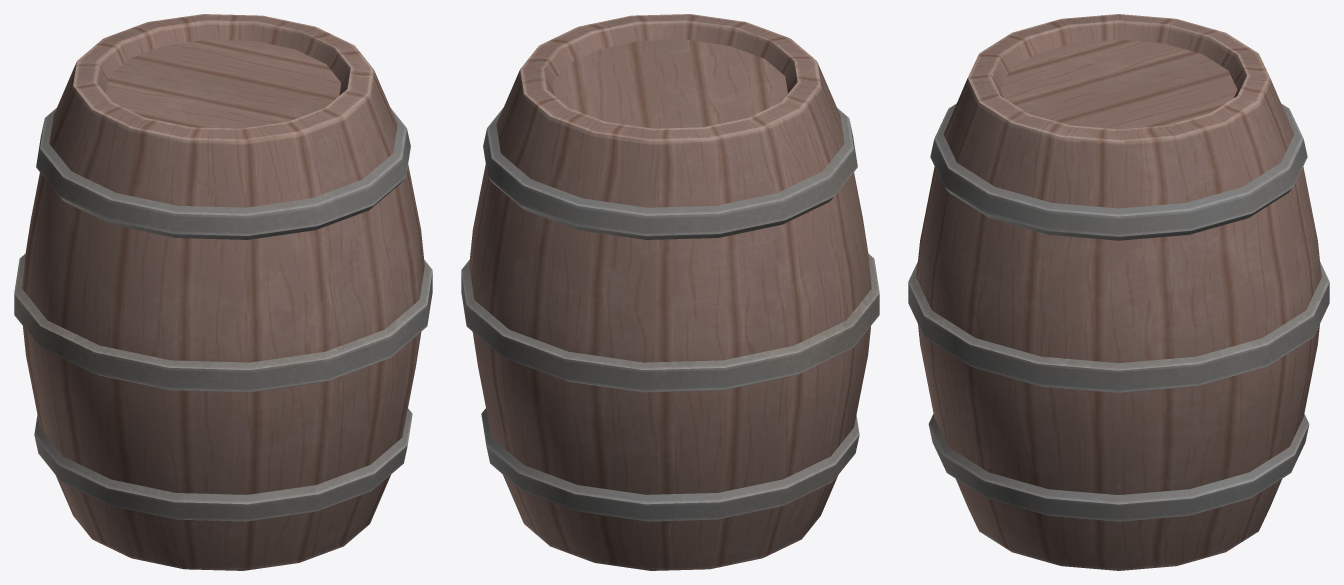
The picture shows the model from 3 angles, left to right: view 1: azimuth 30°, elevation 25°; view 2: azimuth 150°, elevation 25°; view 3: azimuth 270°, elevation 25°; orthographic projection.
Visible parts, largest first — view 1: submesh_0; view 2: submesh_0; view 3: submesh_0.
Part boxes in pixels (left/top/right/bottom): submesh_0: left=14, top=14, right=432, bottom=570; submesh_0: left=461, top=14, right=879, bottom=570; submesh_0: left=908, top=14, right=1329, bottom=570.
Bounding box in the file's own units: 0.7763 × 0.8829 × 0.7763.
1 material, 1 textured.
